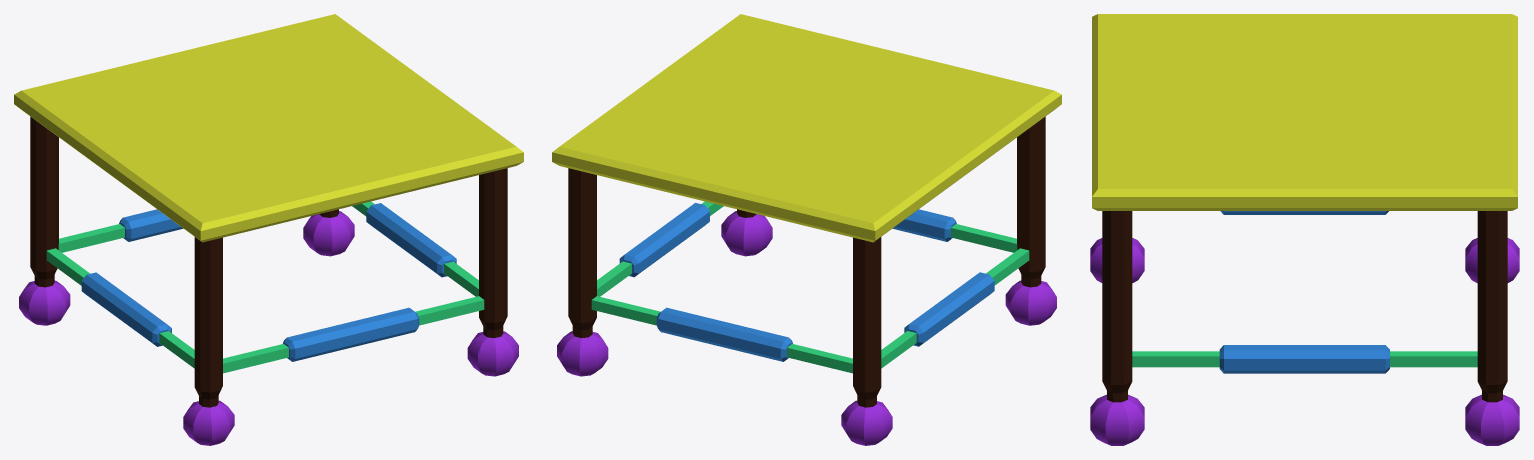
File: MESH_Table.fbx
The picture shows the model from 3 angles, left to right: view 1: azimuth 30°, elevation 25°; view 2: azimuth 150°, elevation 25°; view 3: azimuth 270°, elevation 25°; orthographic projection. The views are drawn at different scales.
Visible parts, largest first — view 1: MESH_Table; view 2: MESH_Table; view 3: MESH_Table.
Part boxes in pixels (x1,y1,x2,y2): MESH_Table: (14,14,523,445); MESH_Table: (552,14,1061,445); MESH_Table: (1090,14,1519,445).
Size of the model in its own units: 1.01 by 0.6709 by 1.01.
